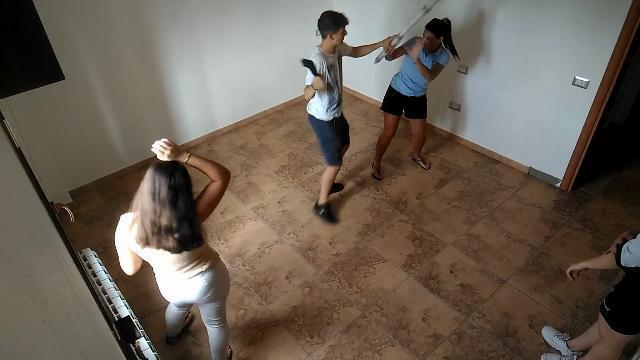non-violence: (112, 137, 236, 359), (542, 231, 640, 358)
violence: (298, 6, 460, 224), (298, 9, 399, 225), (369, 9, 461, 183)
weapon: (300, 56, 317, 77)
